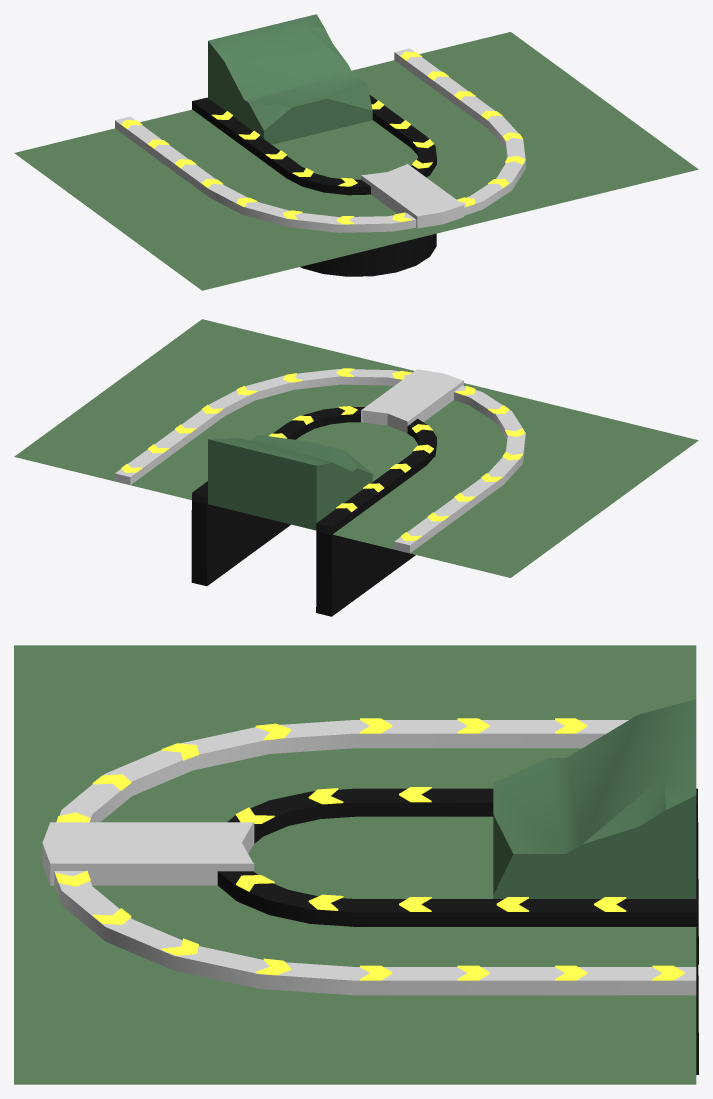
File: Map 7.fbx
3 renders of one model, top to bottom at view 1: azimuth 30°, elevation 25°; view 2: azimuth 150°, elevation 25°; view 3: azimuth 270°, elevation 25°, orthographic. The views are drawn at different scales.
Visible parts, largest first — view 1: Plane_cutout both, Plane.Backup, Boulder, Track_Outer, Track_Inner, Plane_cutout Inner, Creep Platform; view 2: Plane_cutout both, Plane.Backup, Track_Inner, Boulder, Track_Outer, Creep Platform, Plane_cutout Inner; view 3: Plane_cutout both, Plane.Backup, Boulder, Track_Outer, Track_Inner, Plane_cutout Inner, Creep Platform, Arrow.003, Arrow.004, Arrow.005, Arrow.011, Arrow.009 (+4 smaller).
Boxes of the visible parts, x1=… form: Plane_cutout both: x1=14, y1=32, x2=698, y2=290; Plane.Backup: x1=15, y1=32, x2=697, y2=290; Boulder: x1=208, y1=14, x2=372, y2=144; Track_Outer: x1=115, y1=48, x2=525, y2=232; Track_Inner: x1=192, y1=94, x2=436, y2=276; Plane_cutout Inner: x1=272, y1=120, x2=417, y2=179; Creep Platform: x1=361, y1=164, x2=463, y2=228; Plane_cutout both: x1=14, y1=319, x2=698, y2=577; Plane.Backup: x1=15, y1=319, x2=698, y2=577; Track_Inner: x1=191, y1=406, x2=436, y2=616; Boulder: x1=208, y1=435, x2=372, y2=530; Track_Outer: x1=115, y1=369, x2=525, y2=553; Creep Platform: x1=361, y1=369, x2=463, y2=433; Plane_cutout Inner: x1=296, y1=422, x2=417, y2=481; Plane_cutout both: x1=14, y1=645, x2=696, y2=1084; Plane.Backup: x1=14, y1=645, x2=696, y2=1084; Boulder: x1=493, y1=699, x2=696, y2=898; Track_Outer: x1=54, y1=720, x2=696, y2=995; Track_Inner: x1=217, y1=788, x2=698, y2=1074; Plane_cutout Inner: x1=248, y1=816, x2=493, y2=898; Creep Platform: x1=42, y1=822, x2=254, y2=885; Arrow.003: x1=360, y1=718, x2=392, y2=980; Arrow.004: x1=457, y1=718, x2=489, y2=980; Arrow.005: x1=555, y1=718, x2=587, y2=980; Arrow.011: x1=308, y1=788, x2=343, y2=910; Arrow.009: x1=255, y1=723, x2=291, y2=975.
Size of the model in its own units: 6400 by 1806 by 4217.
